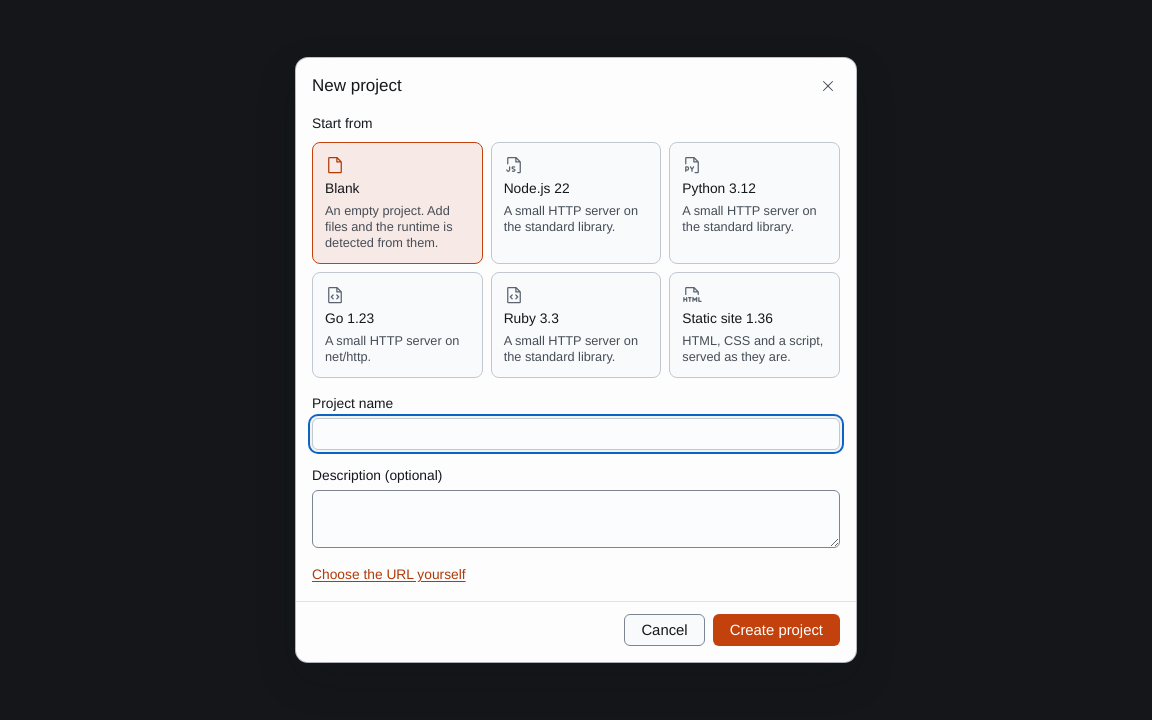
Test: CreateProjectDialog › shows where a chosen URL opens as it is typed
Type "Engine" into the field labelled "Project name" at [576, 434], box [313, 419, 839, 449]
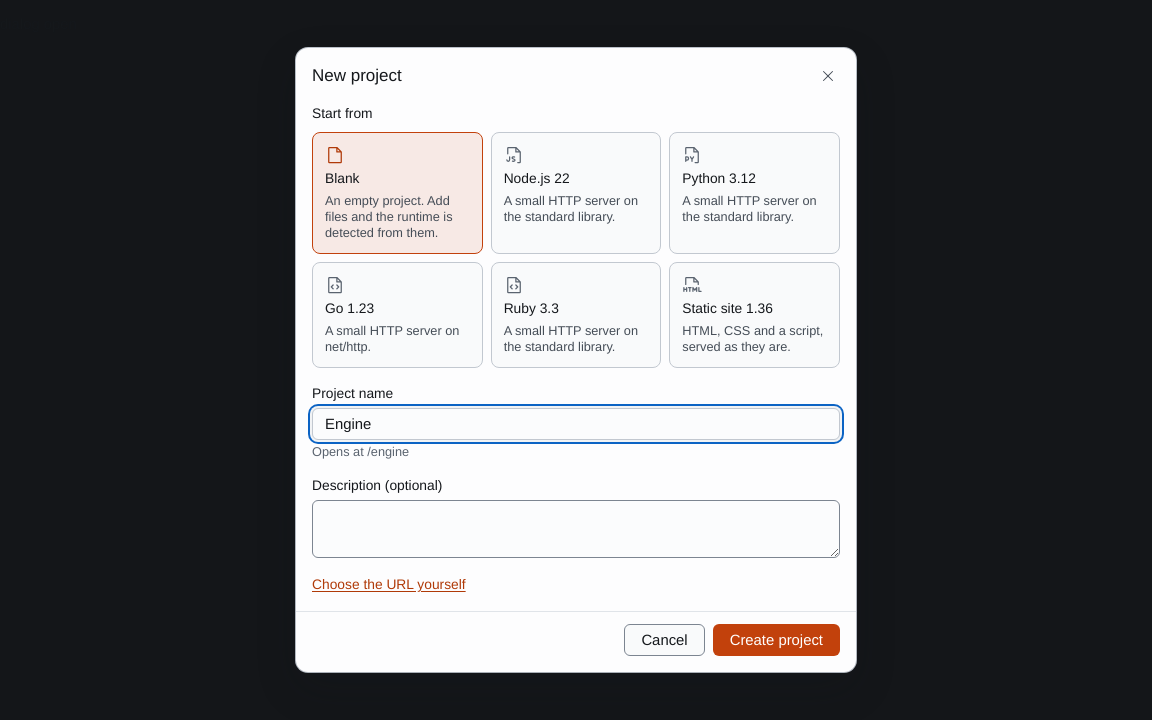
Result: the text "Opens at /engine" is shown at [312, 444, 409, 460]
Click the button "Choose the URL yourself" at [389, 585], box [312, 575, 466, 595]
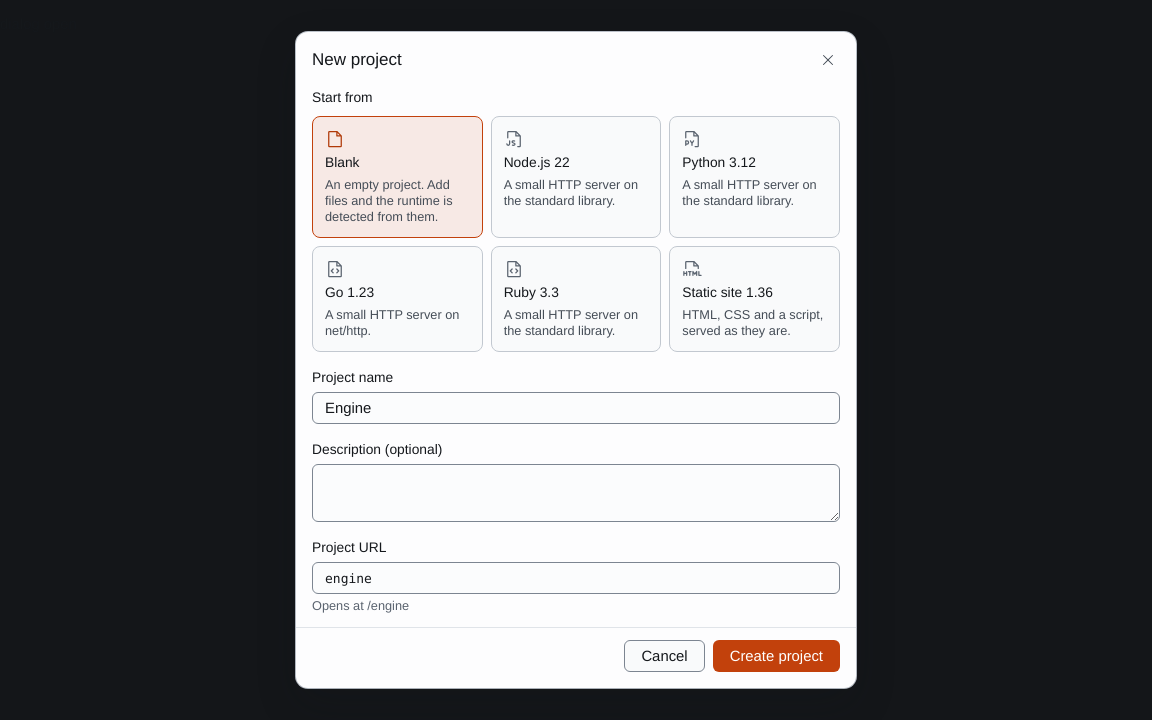
Result: the field labelled "Project URL" holds "engine"
Replace the text in the field labelled "Project URL" with "my-engine" at [576, 578], box [313, 563, 839, 593]
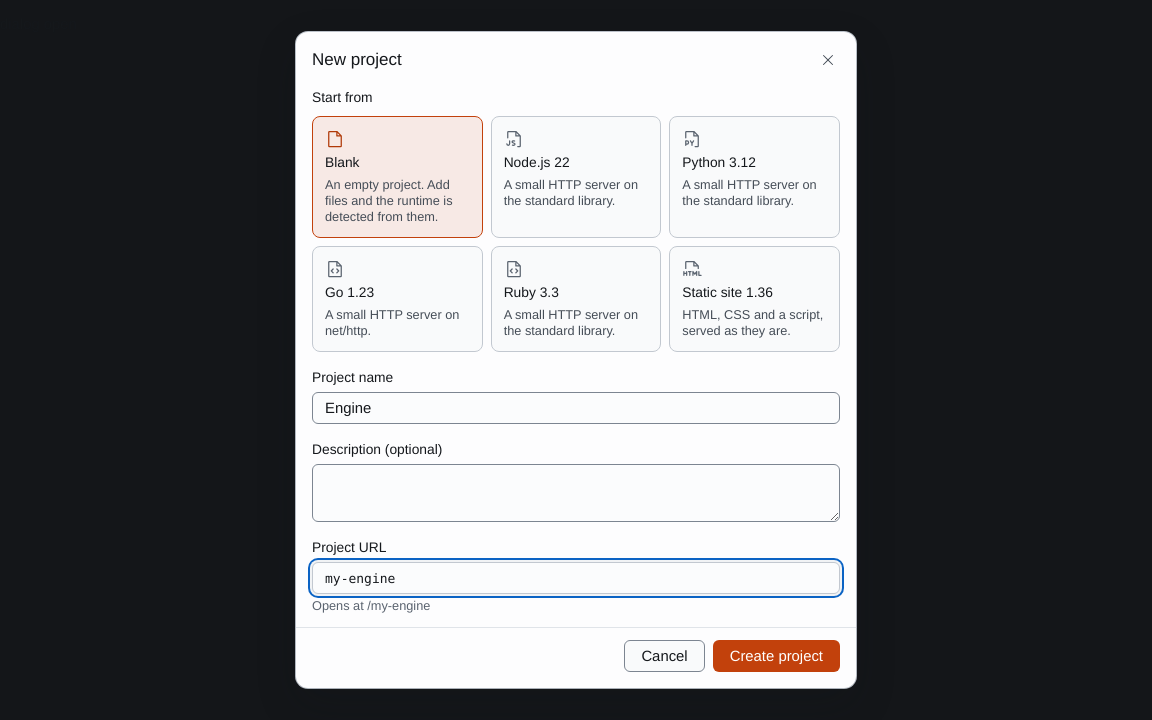
Result: the text "Opens at /my-engine" is shown at [312, 598, 430, 614]
